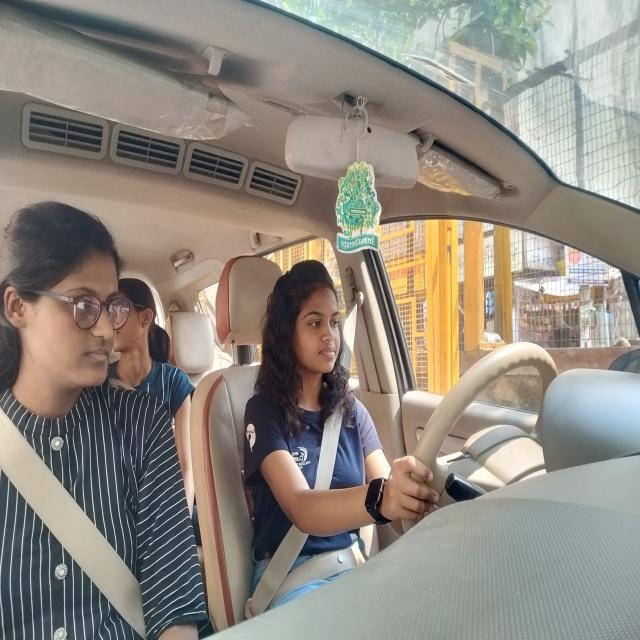person: (5, 191, 126, 419), (272, 259, 344, 399), (116, 270, 164, 373)
